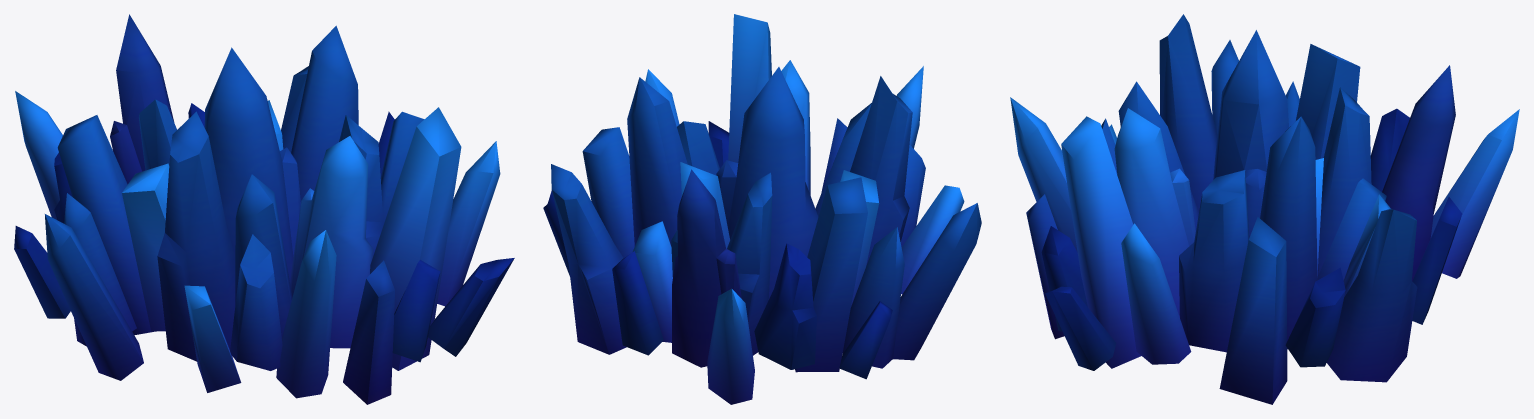
The model's file is ZLP_Crystalk_A_2.FBX.
3 renders of one model, left to right at view 1: azimuth 30°, elevation 25°; view 2: azimuth 150°, elevation 25°; view 3: azimuth 270°, elevation 25°, orthographic. The views are drawn at different scales.
Visible parts, largest first — view 1: ZLP_Crystalk_A_2; view 2: ZLP_Crystalk_A_2; view 3: ZLP_Crystalk_A_2.
Boxes of the visible parts, x1,y1,x2,y2 form: ZLP_Crystalk_A_2: (14, 14, 514, 404); ZLP_Crystalk_A_2: (543, 14, 981, 404); ZLP_Crystalk_A_2: (1010, 14, 1519, 404).
Bounding box in the file's own units: 300 × 204 × 323.
